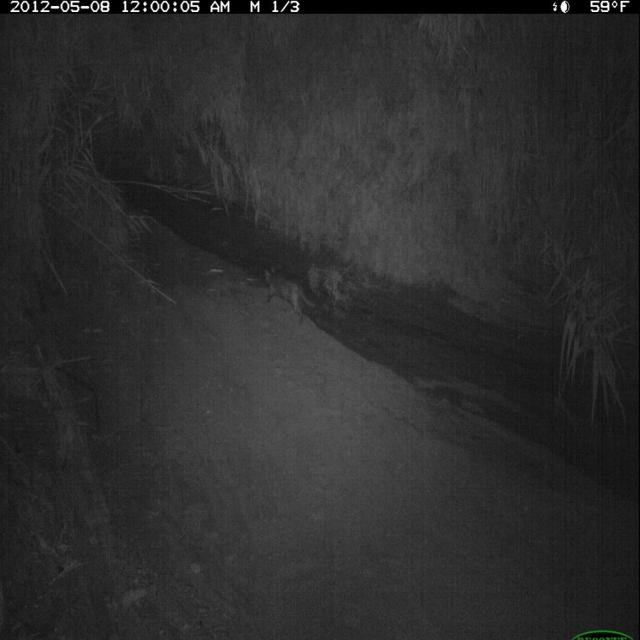cat: (259, 258, 320, 327)
